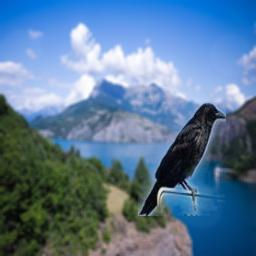Crow: (138, 102, 226, 216)
